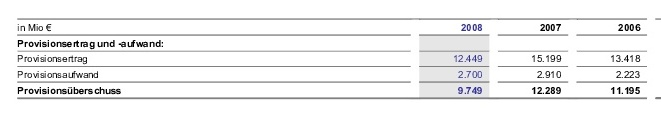table: (0, 0, 661, 116)
